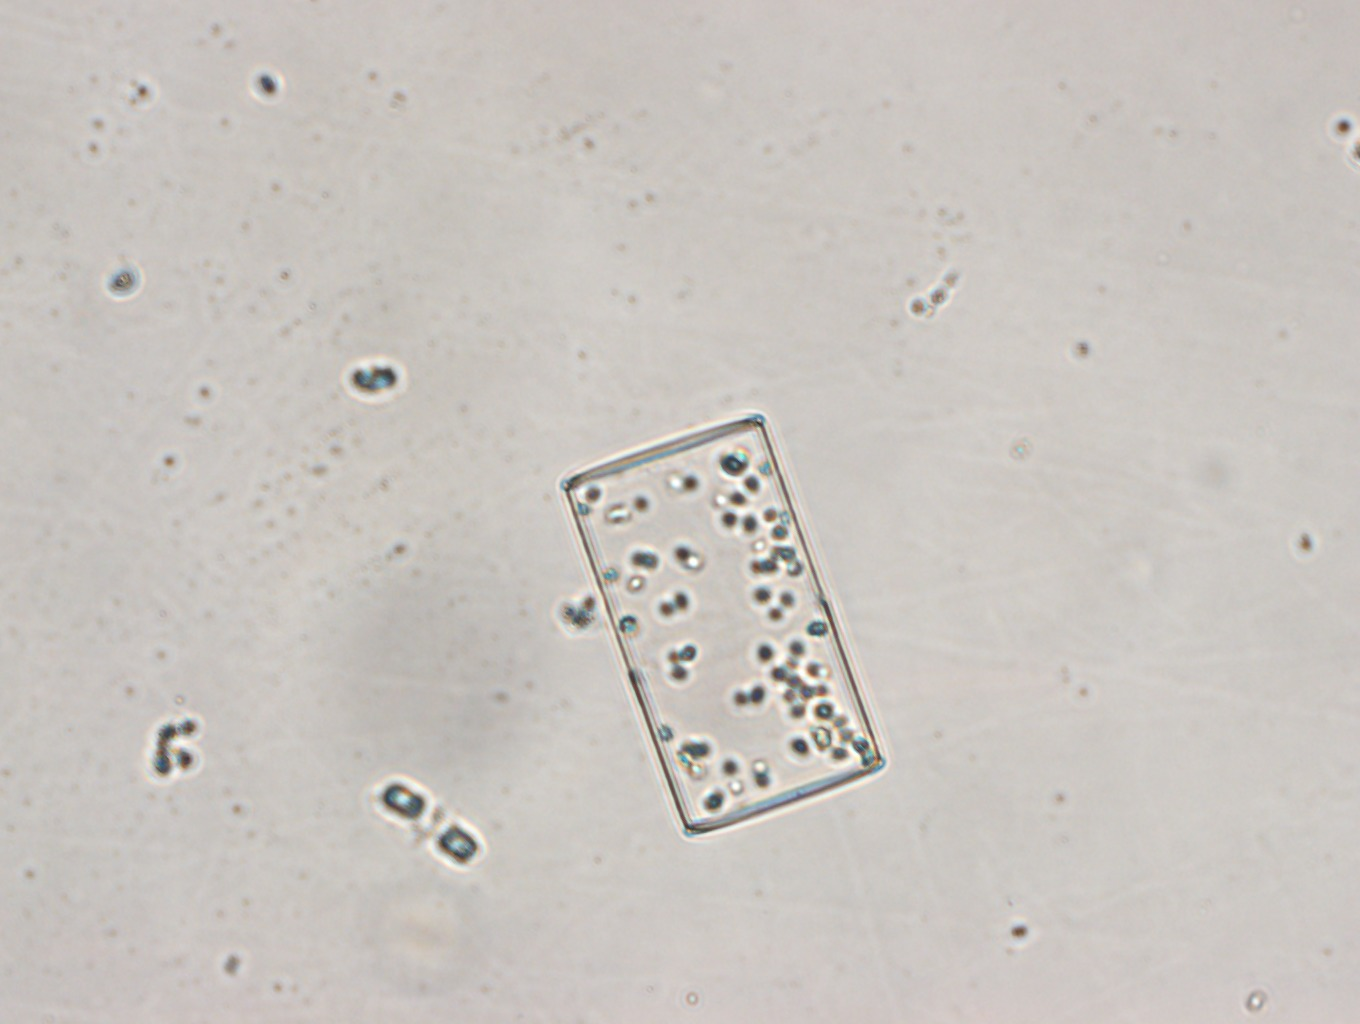guinardia flaccida: (555, 406, 886, 841)
